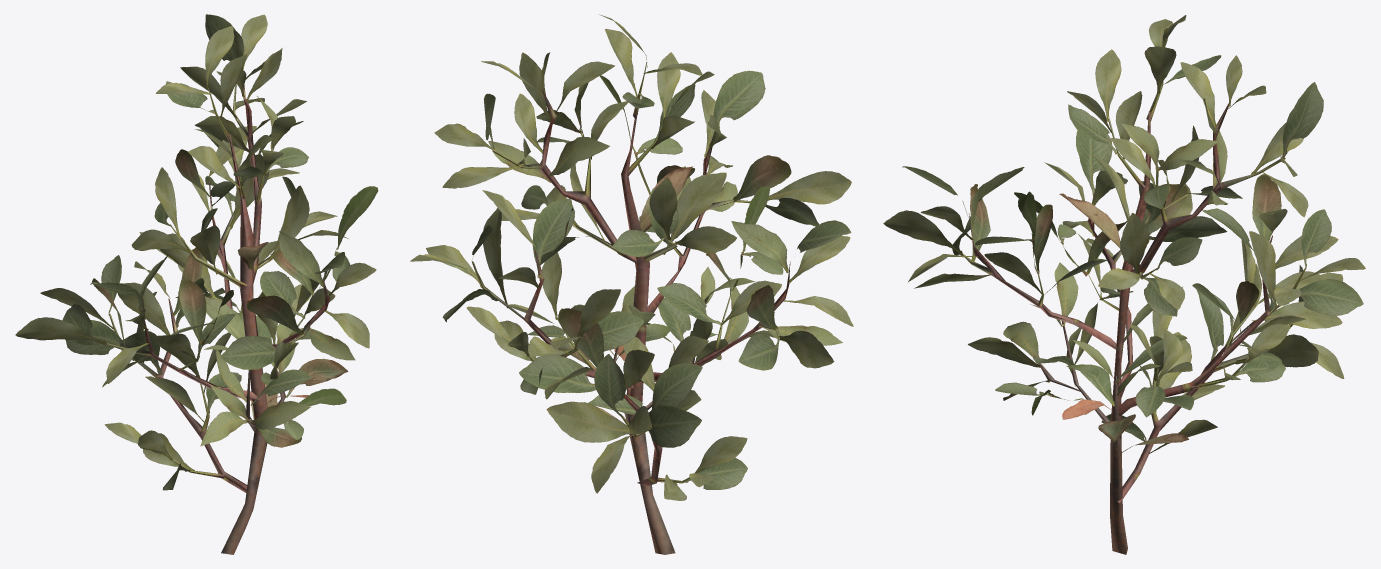
The model's file is SingleShrubTri.obj.
3 views of the same model, side by side, from view 1: azimuth 30°, elevation 25°; view 2: azimuth 150°, elevation 25°; view 3: azimuth 270°, elevation 25° (orthographic). The views are drawn at different scales.
Parts seen in each view (by area): view 1: shrub_04_b_LOD0; view 2: shrub_04_b_LOD0; view 3: shrub_04_b_LOD0.
Part boxes in pixels (box(x1,y1,x2,y2)): shrub_04_b_LOD0: box(15, 14, 378, 554); shrub_04_b_LOD0: box(410, 14, 853, 554); shrub_04_b_LOD0: box(883, 15, 1365, 554).
Bounding box in the file's own units: 0.1428 × 0.2077 × 0.1664.
